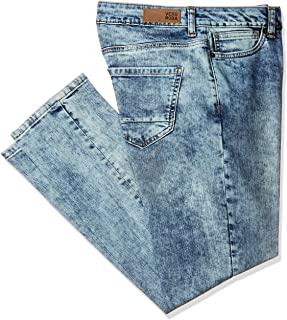jeans: (1, 1, 285, 315)
